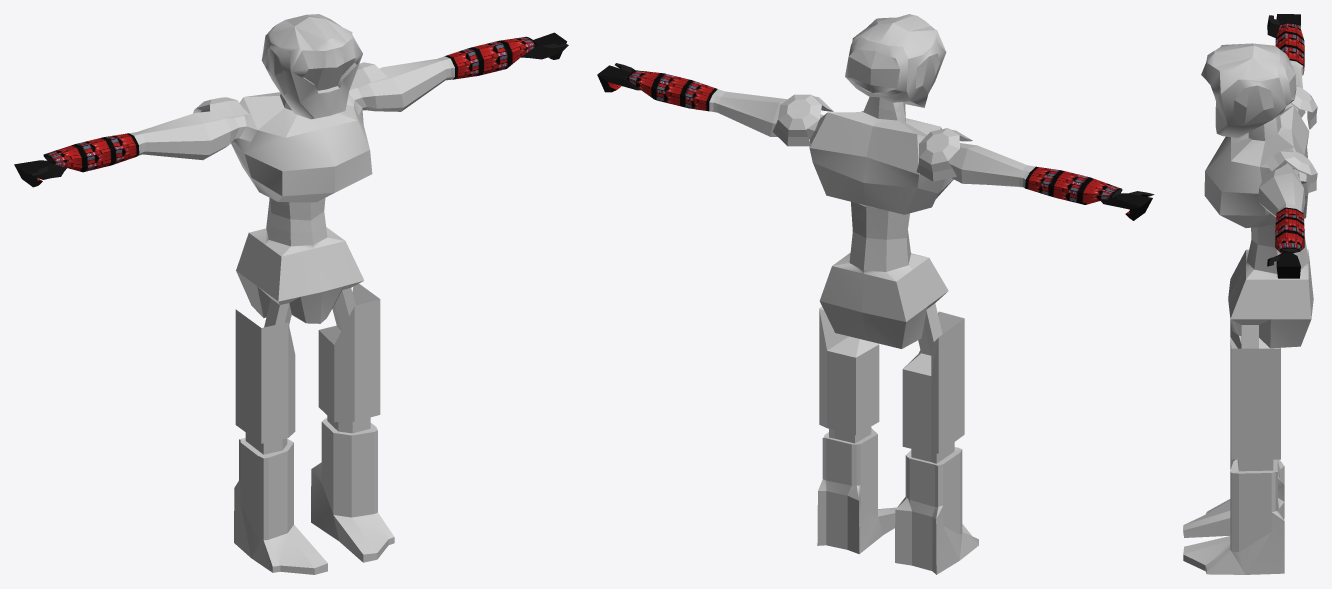
File: ShputnikMesh.obj
3 views of the same model, side by side, from view 1: azimuth 30°, elevation 25°; view 2: azimuth 150°, elevation 25°; view 3: azimuth 270°, elevation 25° (orthographic). The views are drawn at different scales.
Visible parts, largest first — view 1: Shputnik_Mesh; view 2: Shputnik_Mesh; view 3: Shputnik_Mesh.
Part boxes in pixels (bbox=[...]): Shputnik_Mesh: bbox=[14, 14, 568, 574]; Shputnik_Mesh: bbox=[597, 14, 1154, 574]; Shputnik_Mesh: bbox=[1183, 14, 1317, 574].
Size of the model in its own units: 13.55 by 12.53 by 3.05.
